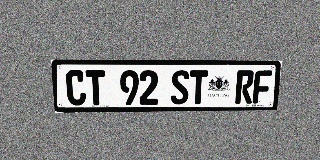2: (139, 70, 158, 105)
9: (120, 70, 139, 105)
C: (65, 70, 86, 105)
F: (252, 70, 272, 103)
R: (235, 70, 254, 104)
S: (171, 70, 189, 104)
T: (85, 70, 106, 105), (189, 70, 208, 104)
